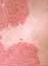plaque psoriasis: (0, 0, 48, 66), (0, 0, 41, 44)
